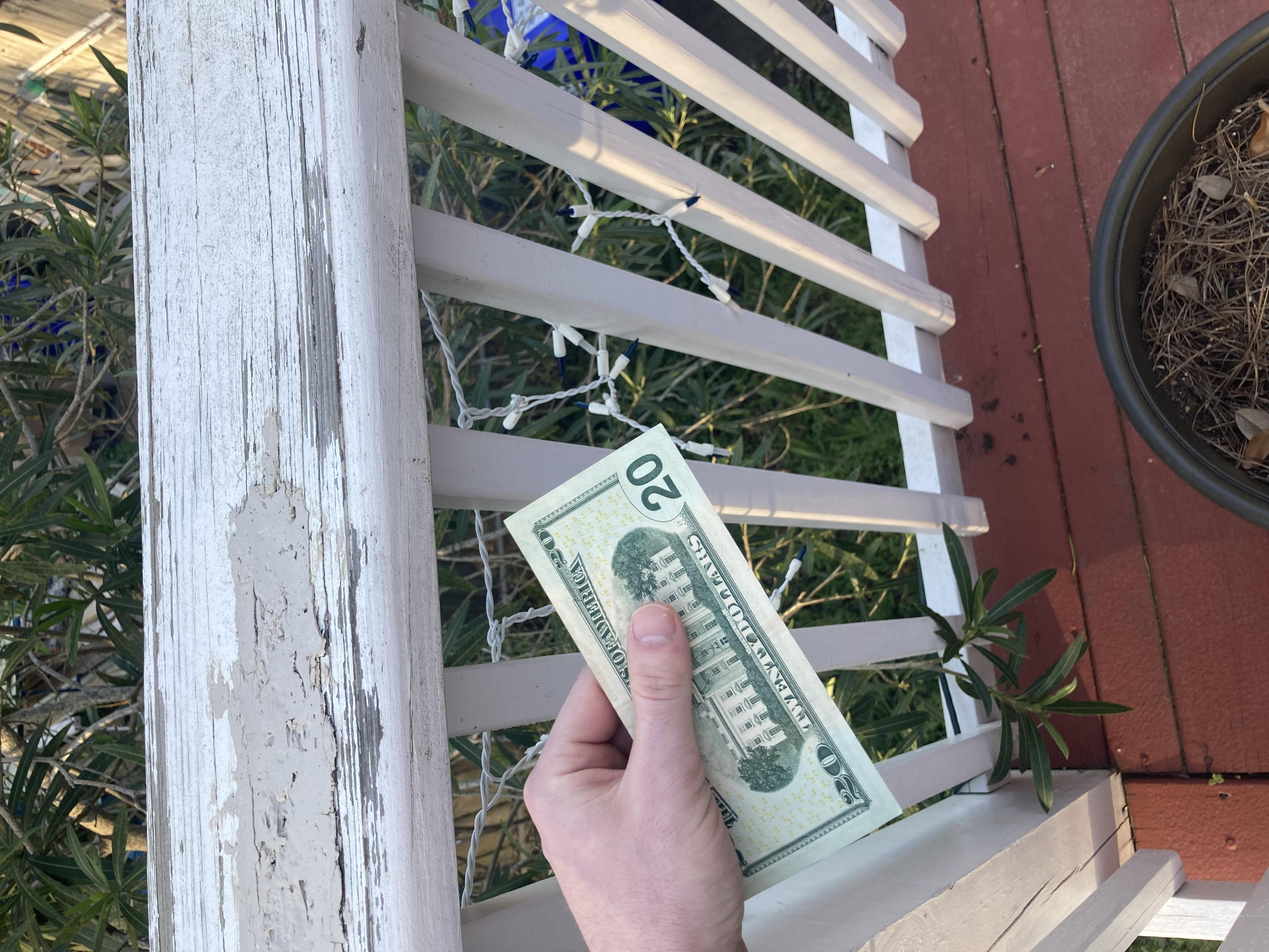twenty-back: (64, 377, 704, 678)
